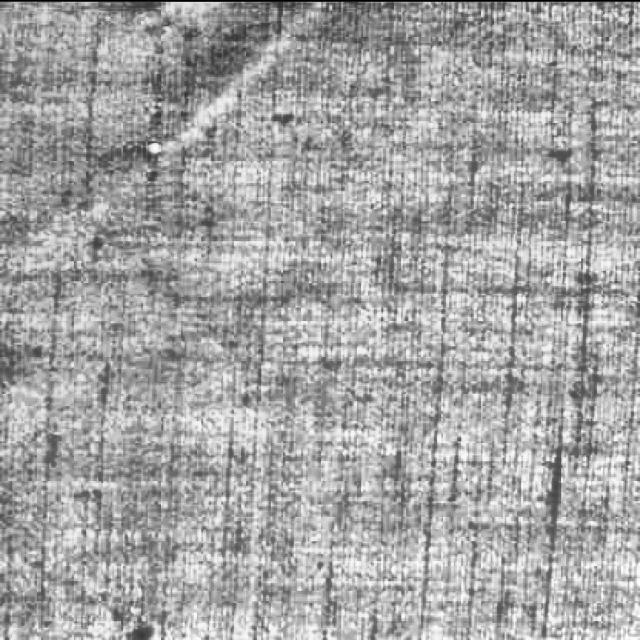hole: (144, 135, 168, 157)
